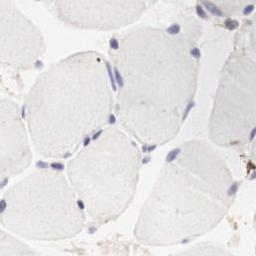nucleus: (106, 61, 116, 91), (204, 1, 224, 16), (183, 101, 196, 122), (165, 147, 182, 163), (165, 22, 181, 34), (195, 5, 208, 19), (227, 181, 240, 194), (190, 47, 202, 59), (116, 69, 124, 87), (108, 36, 119, 49), (226, 19, 239, 29), (49, 161, 65, 169), (35, 159, 48, 168), (20, 103, 27, 119), (141, 154, 152, 164), (243, 4, 254, 14), (34, 59, 44, 69), (108, 113, 117, 124), (93, 128, 102, 139), (77, 199, 85, 210), (251, 126, 256, 142), (1, 198, 6, 214), (83, 137, 91, 146), (1, 178, 8, 188), (149, 144, 158, 151), (90, 226, 97, 234), (250, 172, 256, 179), (142, 144, 147, 152), (183, 237, 190, 242), (132, 140, 136, 147)
positive_cell: (244, 159, 256, 181)
